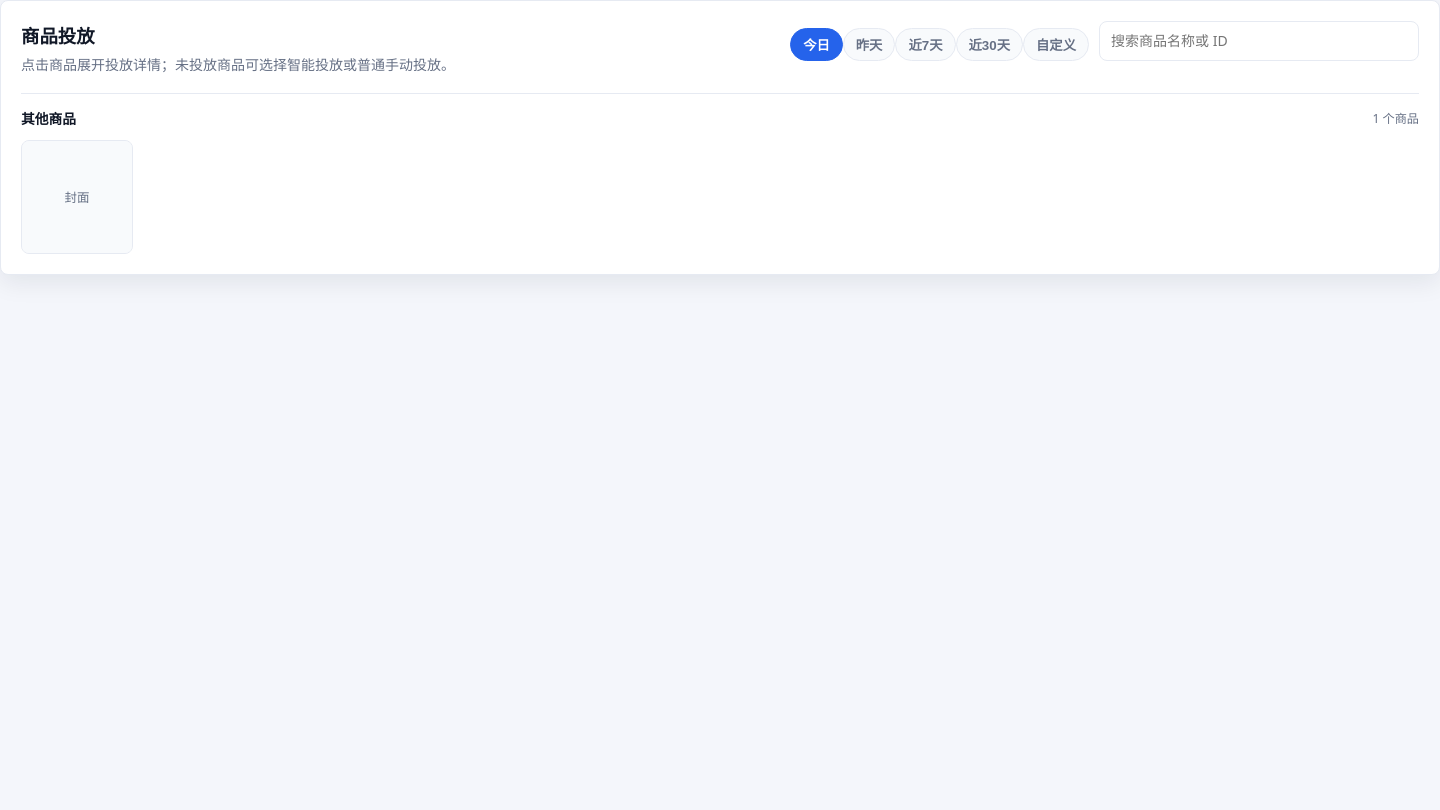
it: ProductAutomationPanel campaign creation result › keeps the same intent when a created campaign is QUARANTINED
This screenshot has width=1440, height=810.
Click the button with aria-label "展开商品 测试商品" at (77, 197), box top-left (22, 141), bottom-right (132, 253)
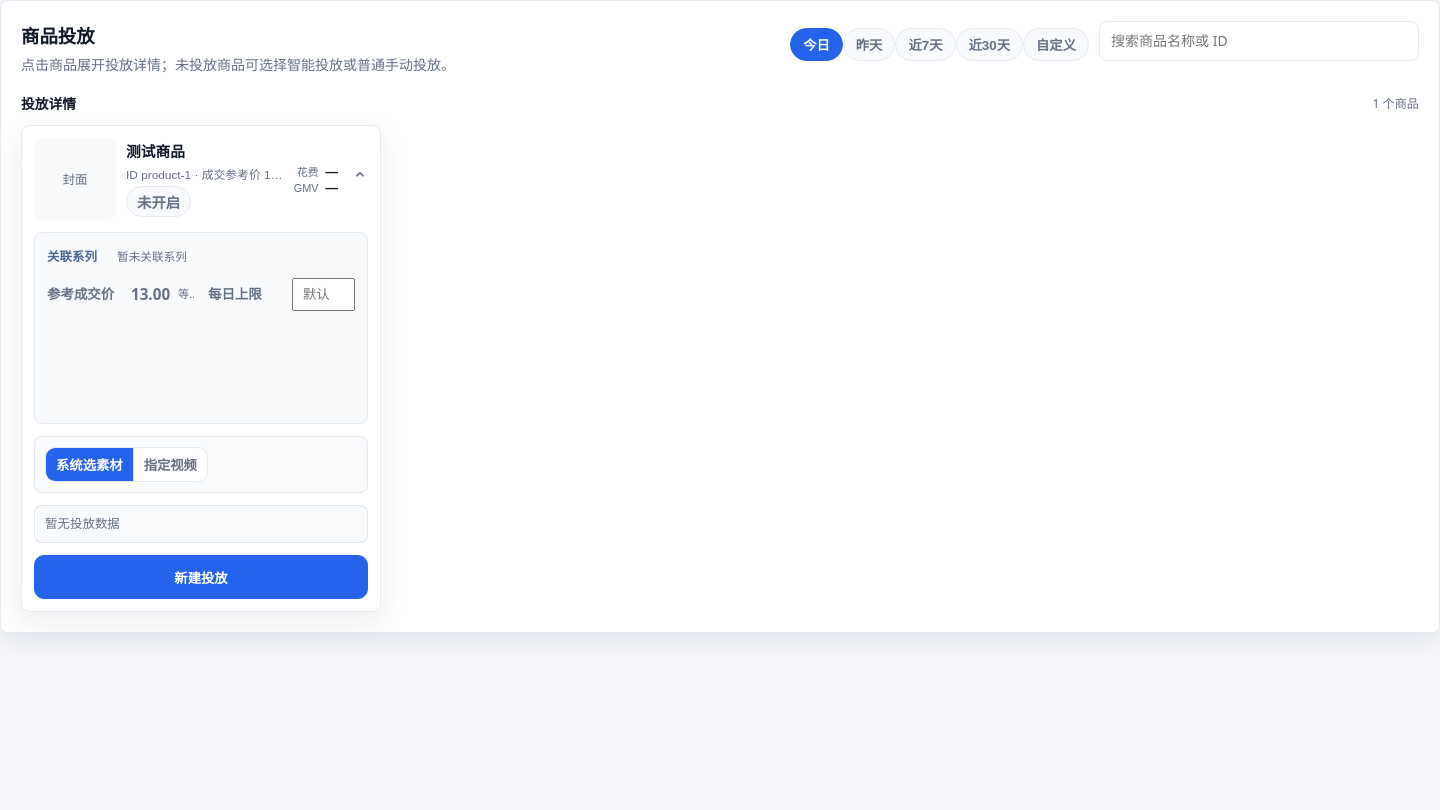
Click the button "新建投放" at (201, 577), box top-left (34, 555), bottom-right (368, 599)
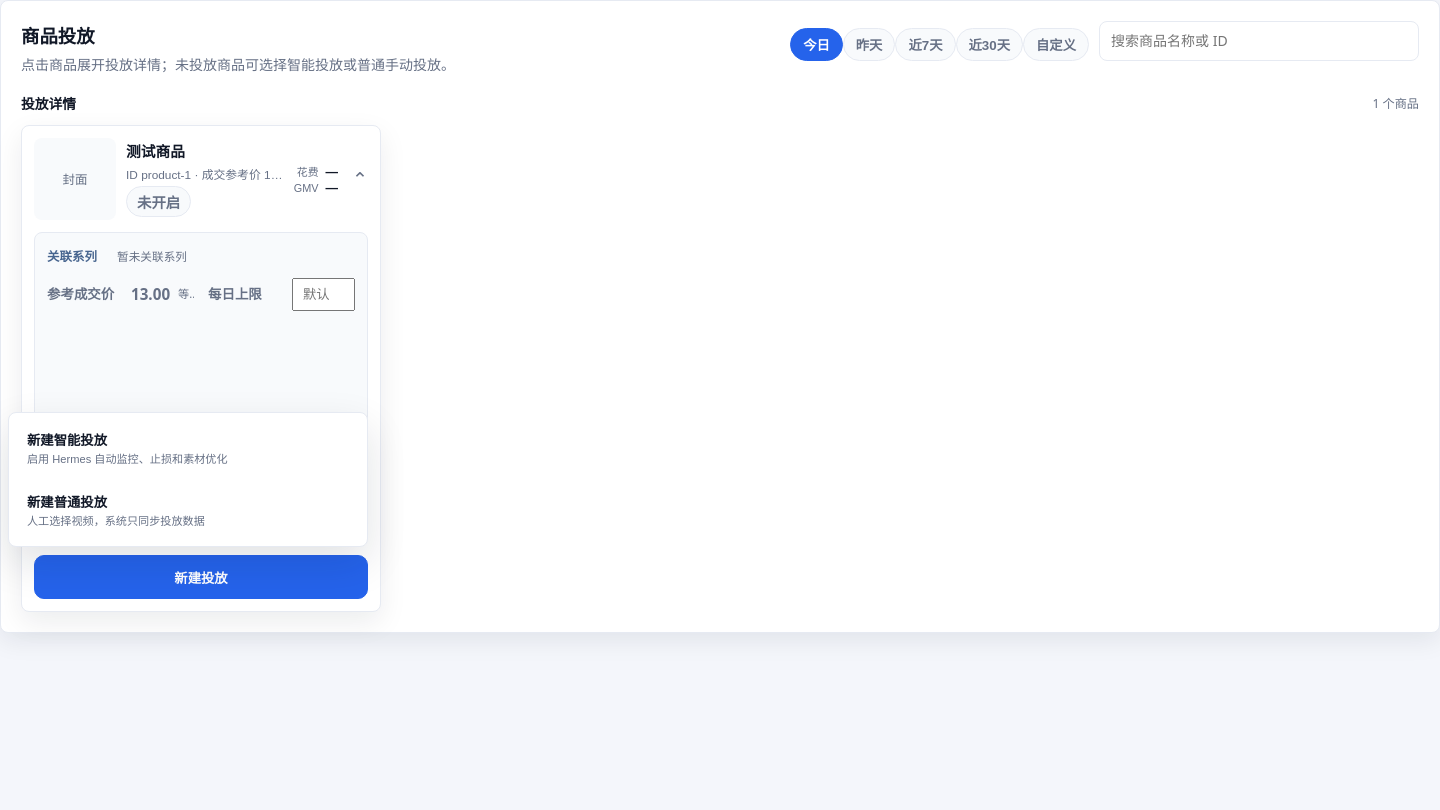
Click the button "新建智能投放 启用 Hermes 自动监控、止损和素材优化" at (67, 441), box top-left (16, 420), bottom-right (360, 477)
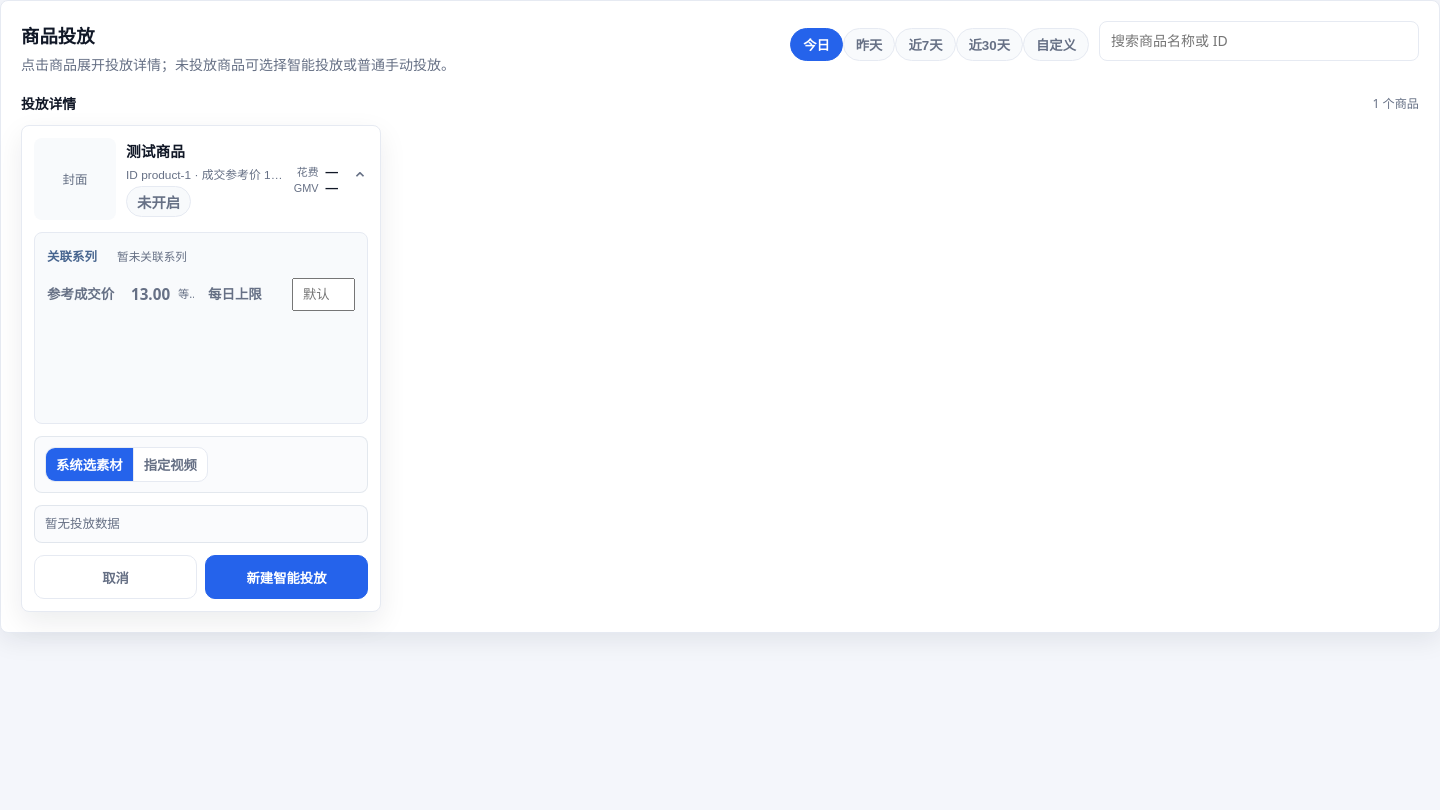
Click the button "新建智能投放" at (286, 577), box top-left (205, 555), bottom-right (368, 599)
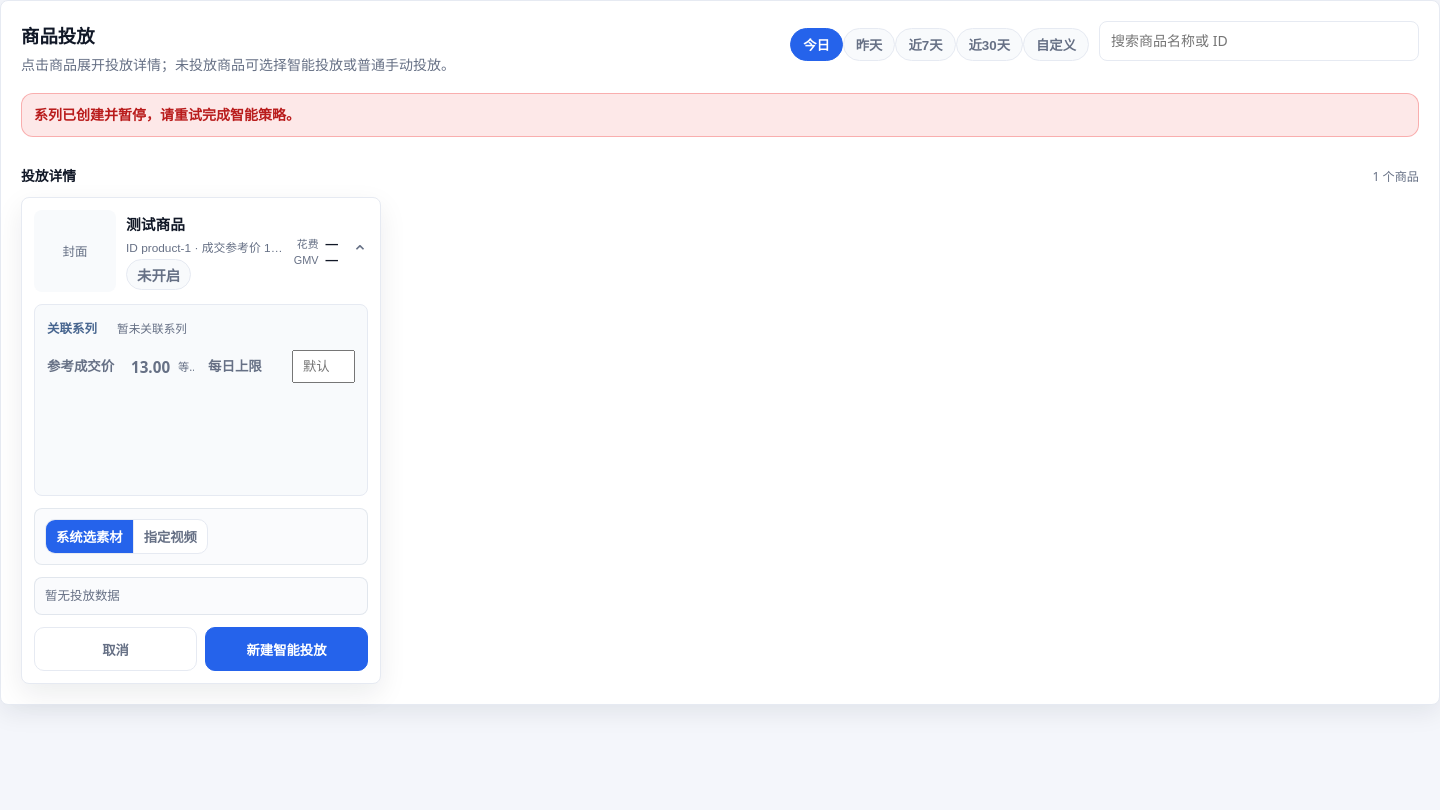
Expected: the text "系列已创建并暂停，请重试完成智能策略。" is shown, top-left (21, 93), bottom-right (1419, 137)
